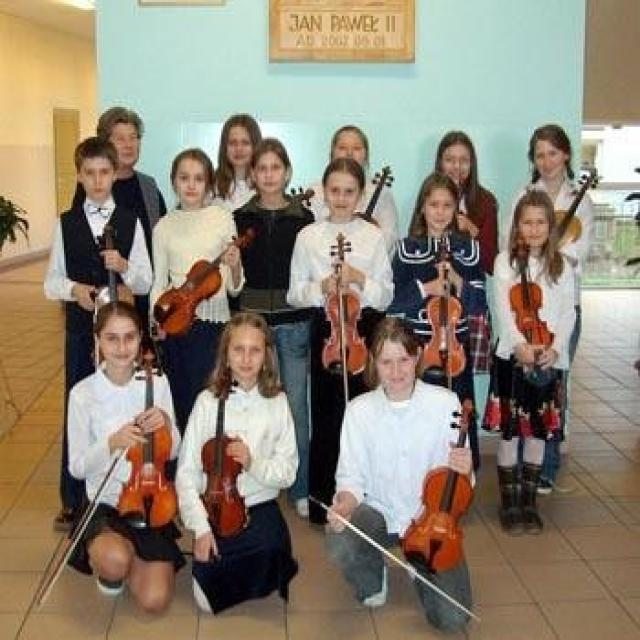violin: (398, 398, 481, 575), (152, 228, 259, 340), (118, 348, 180, 532), (201, 368, 255, 542), (319, 231, 370, 377), (419, 243, 467, 381), (508, 235, 556, 354), (550, 169, 600, 249), (92, 226, 136, 306)
